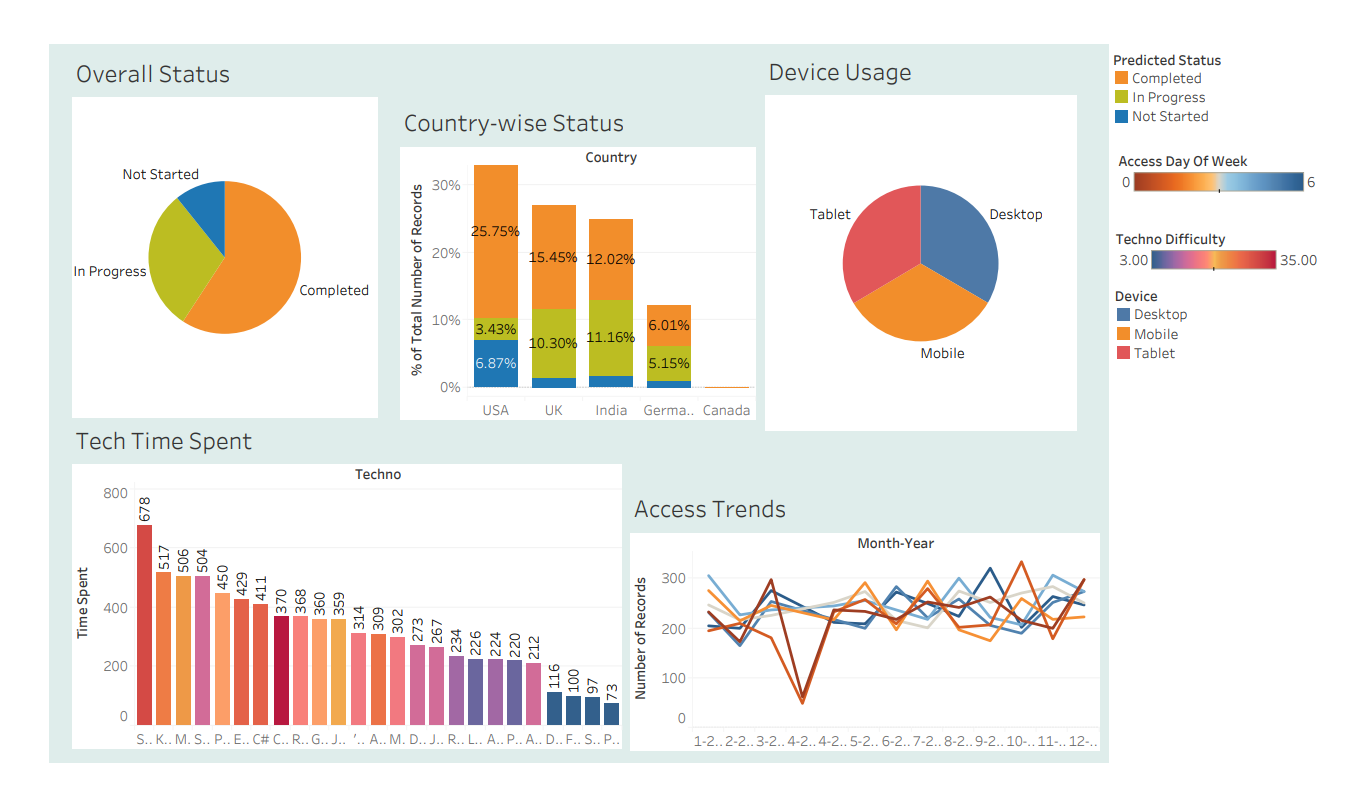

The dashboard page shown, as its layout file describes it:
{"tool":"tableau","page":{"name":"Dashboard 1","canvas":[1000,800],"ordinal":0},"visuals":[{"type":"worksheet","title":"Sheet 2","mark":"Automatic","rows":["Calculation_1610599880625545216"],"cols":["Country"],"box":[8,8,253.5,196]},{"type":"worksheet","title":"Sheet 3","mark":"Automatic","rows":["Techno"],"cols":["Pred_Prob_Completed"],"box":[261.5,8,253.5,392]},{"type":"legend","title":"Sheet 2","param":"[federated.13y5xyl160pujq14ep3eb0imaagb].[none:Predicted_Status:nk]","box":[515,8,477,93]},{"type":"legend","title":"Sheet 1","param":"[federated.13y5xyl160pujq14ep3eb0imaagb].[sum:Calculation_1610599880625545216:qk","box":[515,101,477,114]},{"type":"worksheet","title":"Sheet 5","mark":"Automatic","rows":["Techno"],"cols":["Country"],"box":[8,204,253.5,196]},{"type":"legend","title":"Sheet 3","param":"[federated.13y5xyl160pujq14ep3eb0imaagb].[sum:Techno_Difficulty:qk]","box":[515,215,477,73]},{"type":"legend","title":"Sheet 5","param":"[federated.13y5xyl160pujq14ep3eb0imaagb].[sum:Pred_Prob_Completed:qk]","box":[515,288,477,73]},{"type":"worksheet","title":"Sheet 1","mark":"Automatic","rows":["CompletionStatus"],"cols":["Predicted_Status"],"box":[8,400,253.5,392]},{"type":"worksheet","title":"Sheet 4","mark":"Automatic","rows":["Pred_Prob_Completed"],"cols":["Time_Spent"],"box":[261.5,400,253.5,392]}]}

Visuals, with their boxes on the page's 1000x800 design canvas (x1, y1, x2, y2). These are canvas units, not pixel positions in the 1352x805 screenshot, which may show the page scaled, cropped or inside an application window:
"Sheet 2" worksheet: locate(8, 8, 262, 204)
"Sheet 3" worksheet: locate(262, 8, 515, 400)
"Sheet 2" legend: locate(515, 8, 992, 101)
"Sheet 1" legend: locate(515, 101, 992, 215)
"Sheet 5" worksheet: locate(8, 204, 262, 400)
"Sheet 3" legend: locate(515, 215, 992, 288)
"Sheet 5" legend: locate(515, 288, 992, 361)
"Sheet 1" worksheet: locate(8, 400, 262, 792)
"Sheet 4" worksheet: locate(262, 400, 515, 792)
